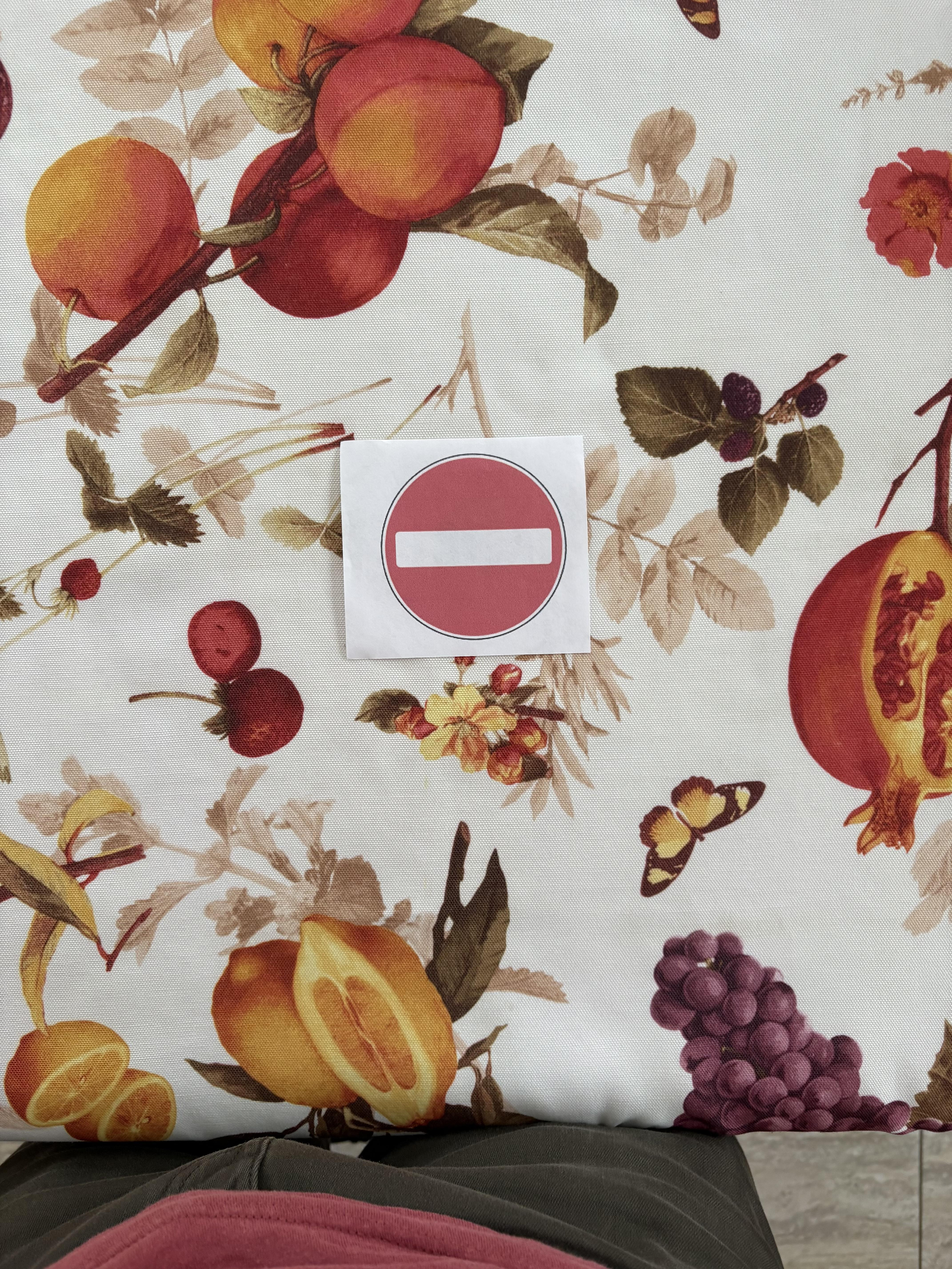No Entry: (342, 444, 587, 648)
